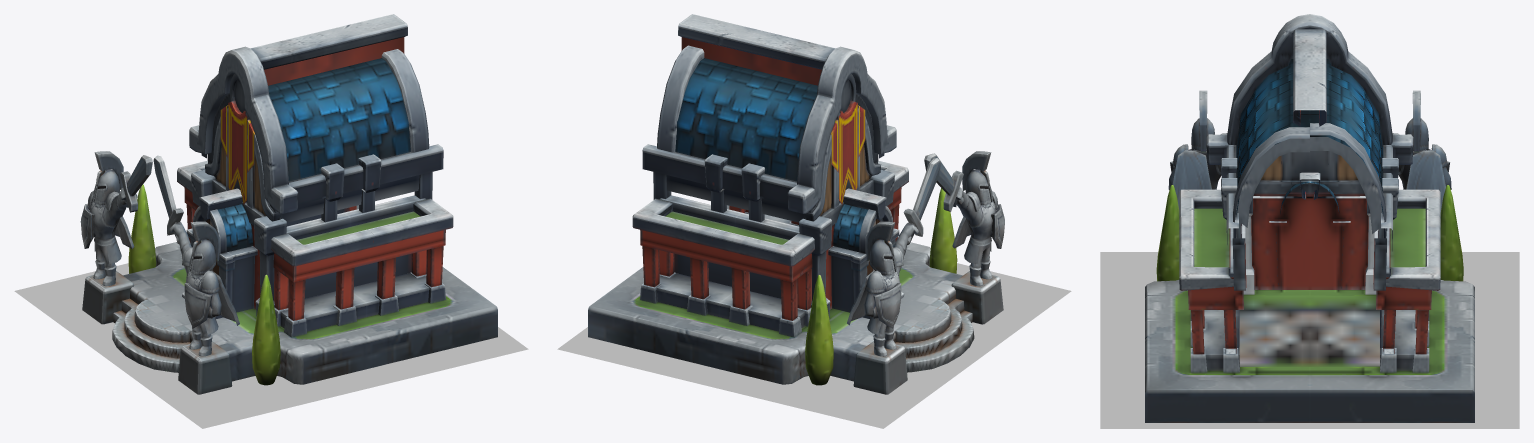
Rendered from C_Academy_LV1.fbx.
The picture shows the model from 3 angles, left to right: view 1: azimuth 30°, elevation 25°; view 2: azimuth 150°, elevation 25°; view 3: azimuth 270°, elevation 25°; orthographic projection. The views are drawn at different scales.
Visible parts, largest first — view 1: C_Academy_LV1_0_mesh, C_Academy_LV1_1_mesh; view 2: C_Academy_LV1_0_mesh, C_Academy_LV1_1_mesh; view 3: C_Academy_LV1_0_mesh, C_Academy_LV1_1_mesh.
Boxes of the visible parts, x1=… form: C_Academy_LV1_0_mesh: x1=80, y1=14, x2=497, y2=394; C_Academy_LV1_1_mesh: x1=14, y1=263, x2=528, y2=428; C_Academy_LV1_0_mesh: x1=588, y1=14, x2=1004, y2=394; C_Academy_LV1_1_mesh: x1=557, y1=263, x2=1071, y2=428; C_Academy_LV1_0_mesh: x1=1145, y1=14, x2=1474, y2=422; C_Academy_LV1_1_mesh: x1=1100, y1=252, x2=1519, y2=428.
Size of the model in its own units: 120 by 97.58 by 120.
